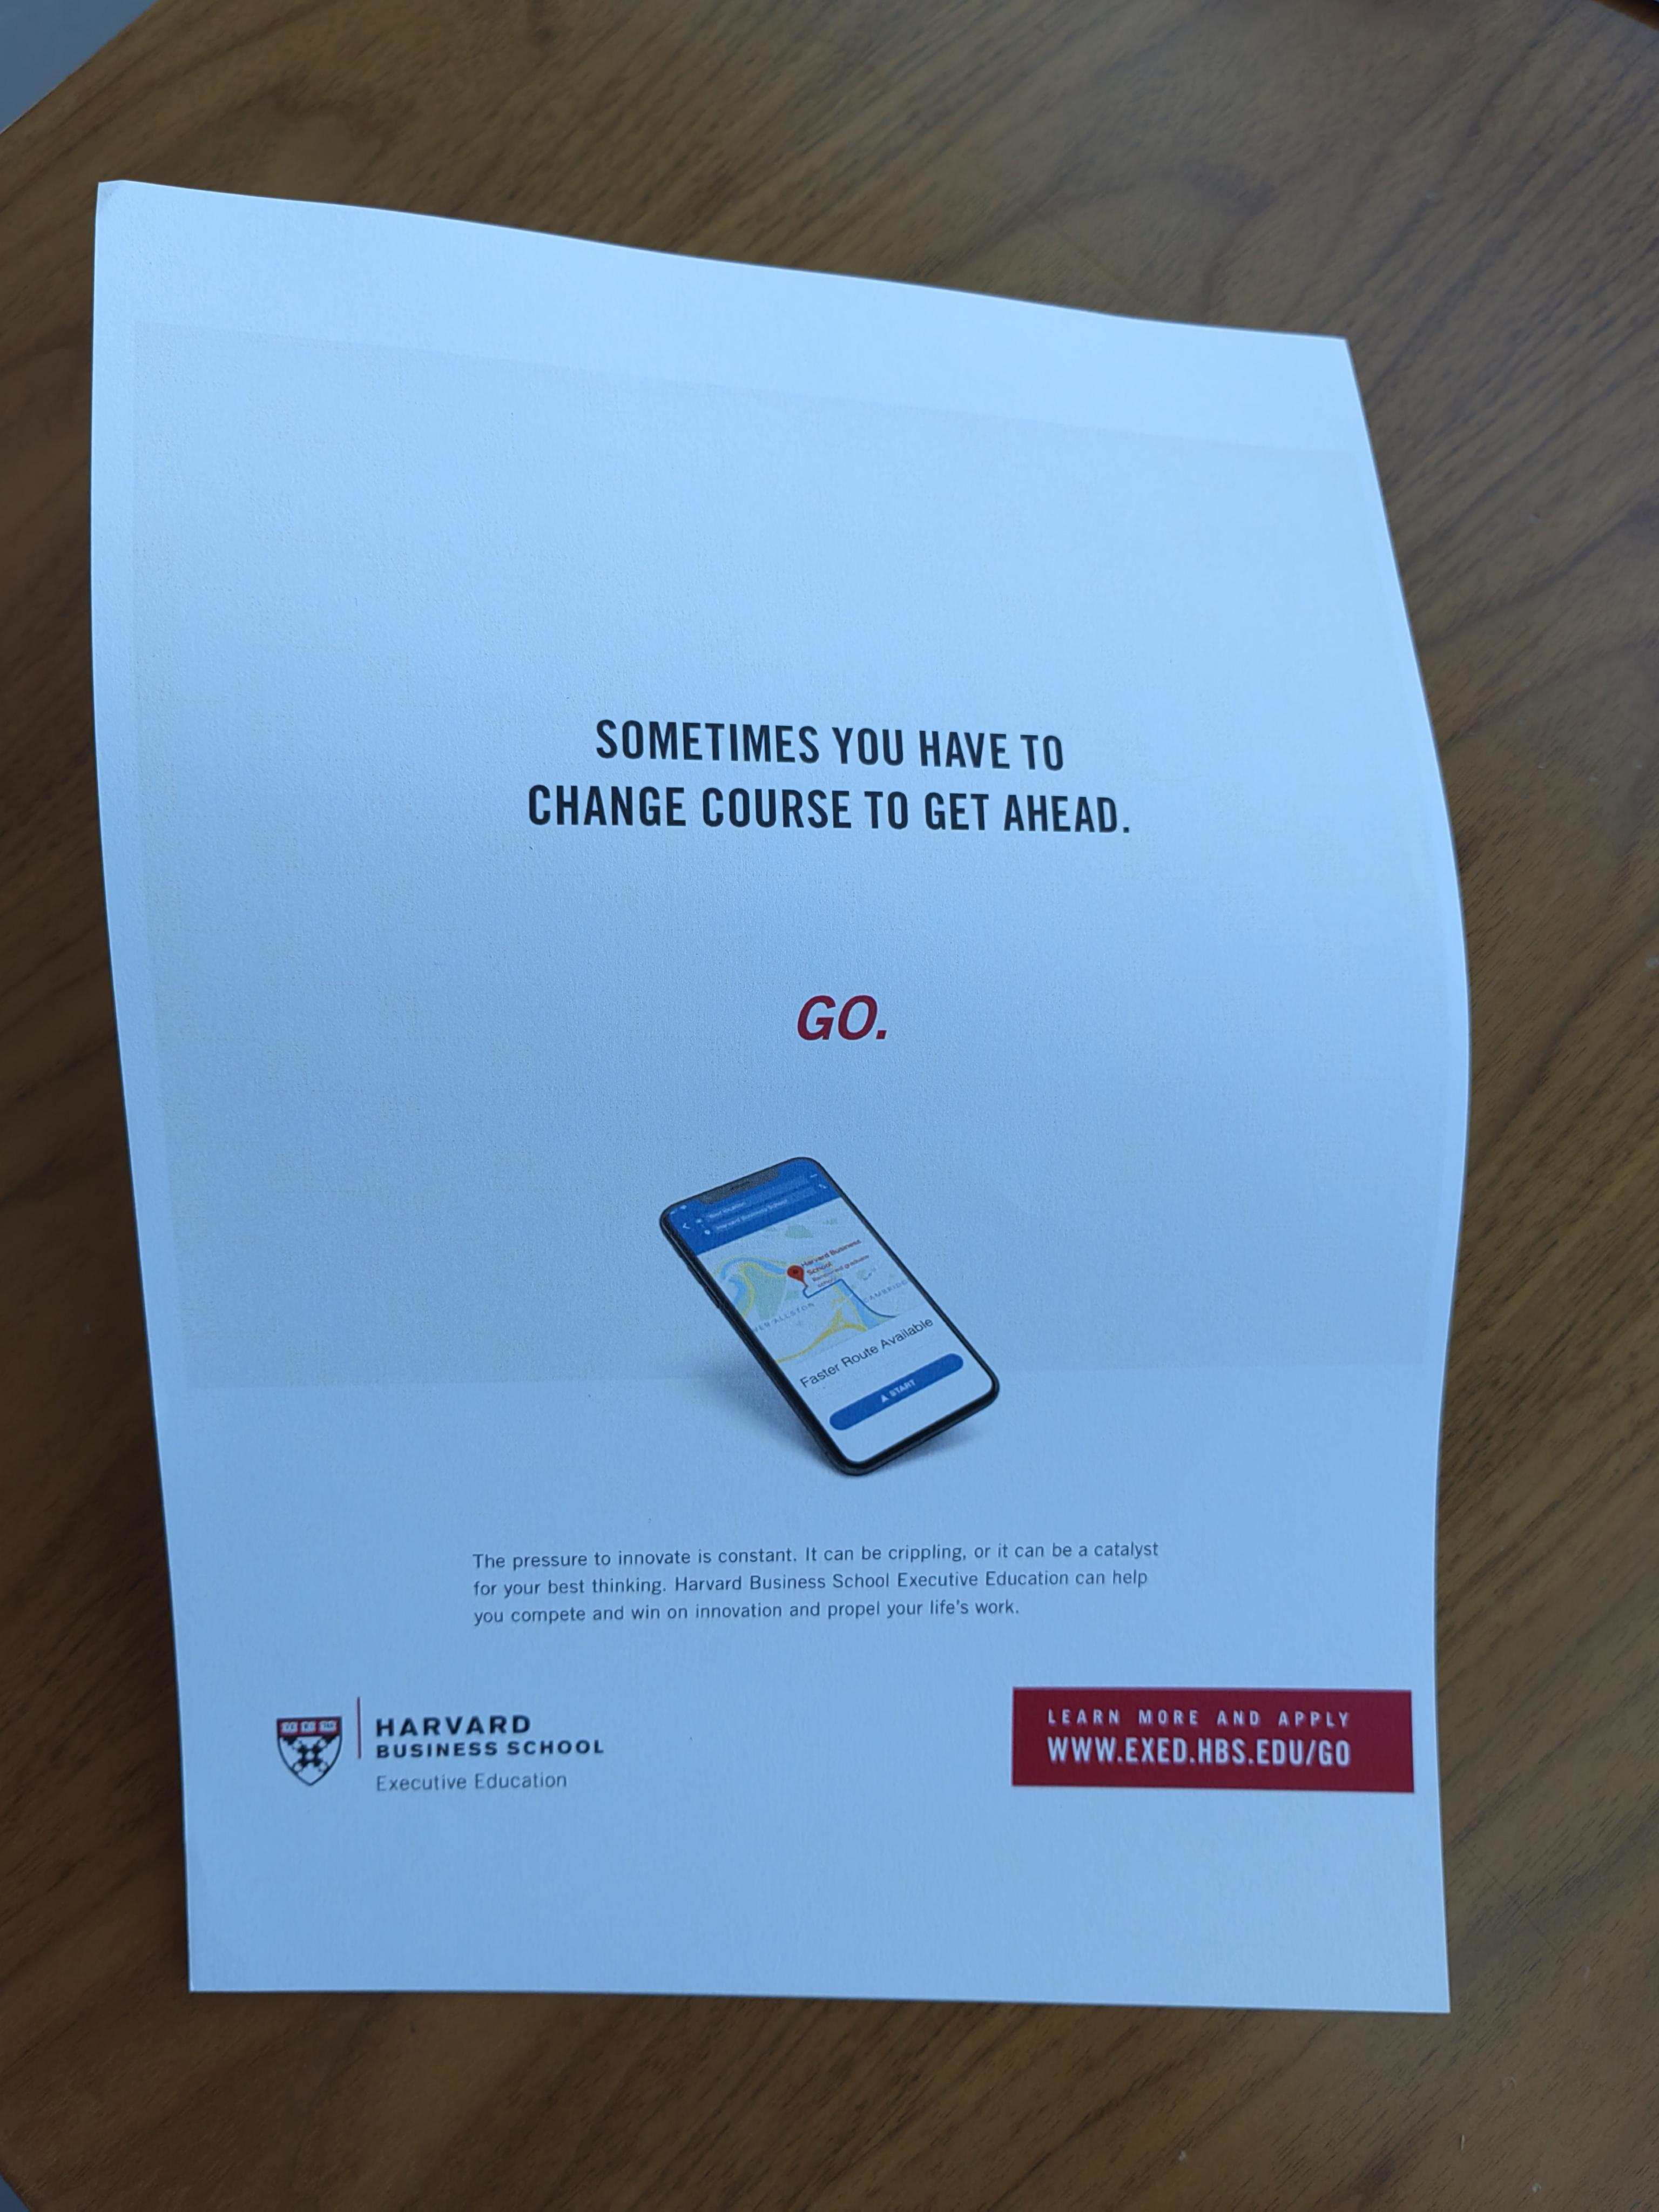paper: (44, 51, 1586, 2149)
